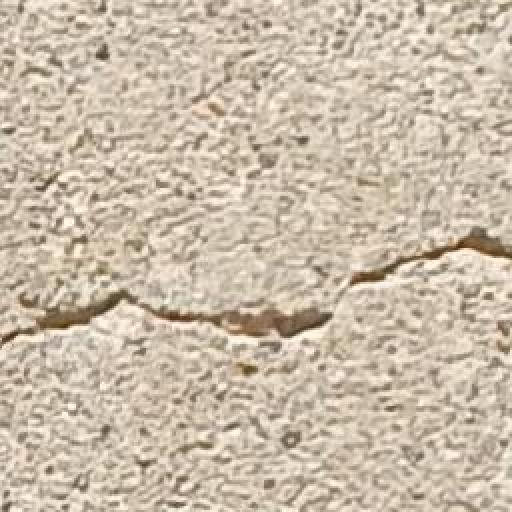spalling: (6, 211, 510, 360)
